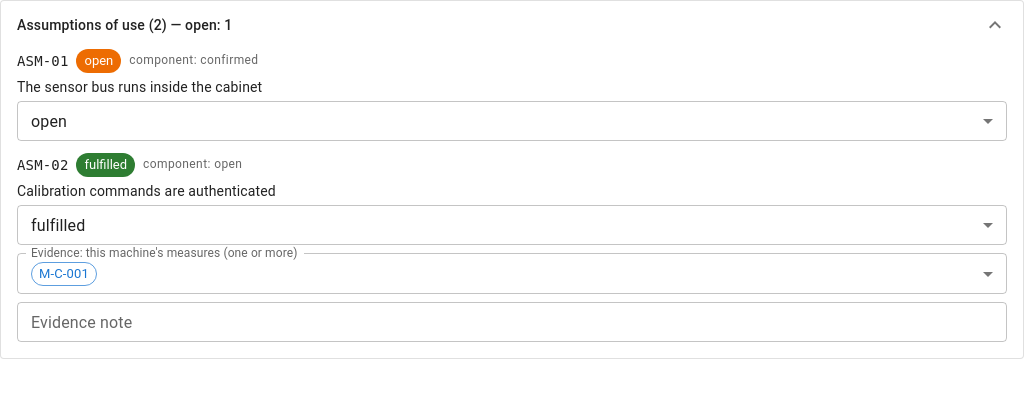
Test: ComponentAssumptionsChecklist › evidence is a multiple choice: a checkbox per measure, the chosen ones marked
This screenshot has width=1024, height=404.
Press the mouse on the dropdown labelled "M-C-001" at {"x": 64, "y": 274}, box 31,262 -> 97,286
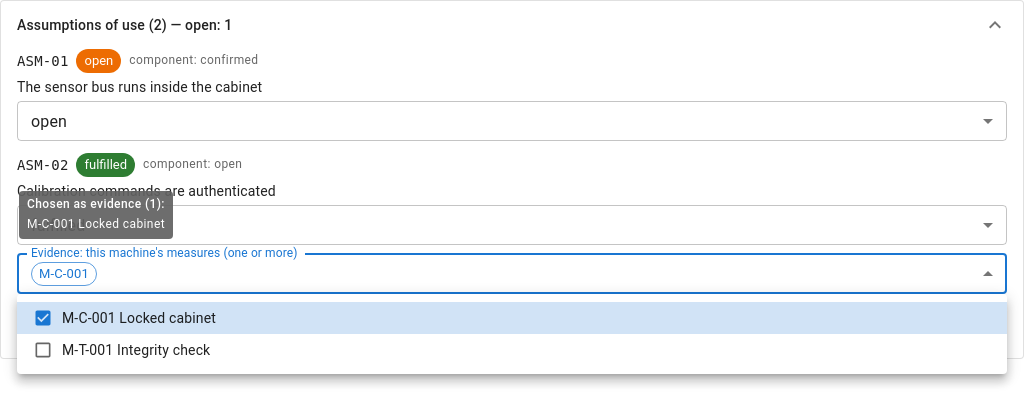
Check: the 1st checkbox is checked, box 33,308 -> 53,328
Check: the checkbox next to "M-T-001 Integrity check" is not checked, box 33,340 -> 53,360
